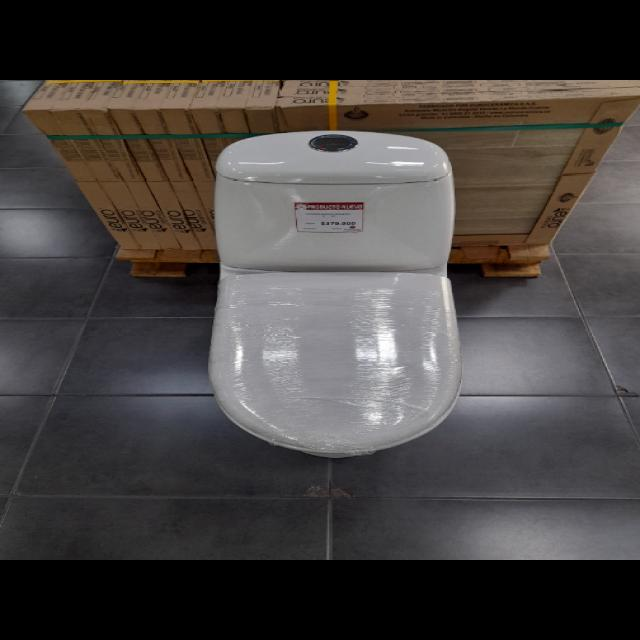toilet: (207, 129, 462, 458)
